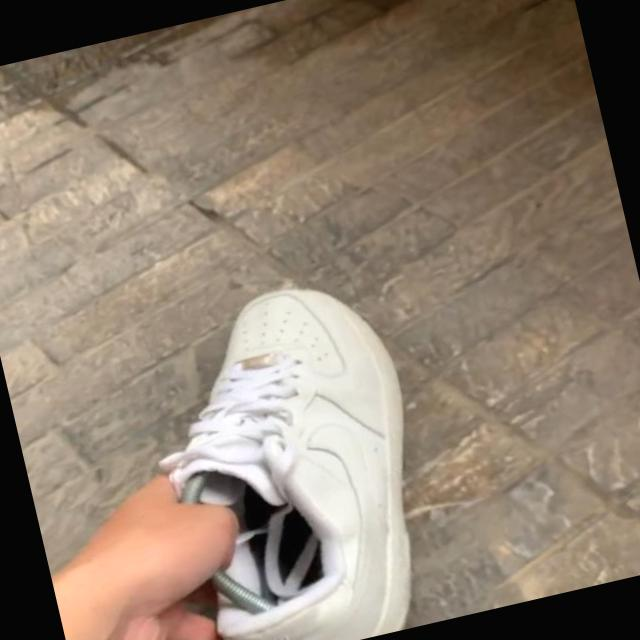nike_fake_airforce: (112, 254, 479, 640)
